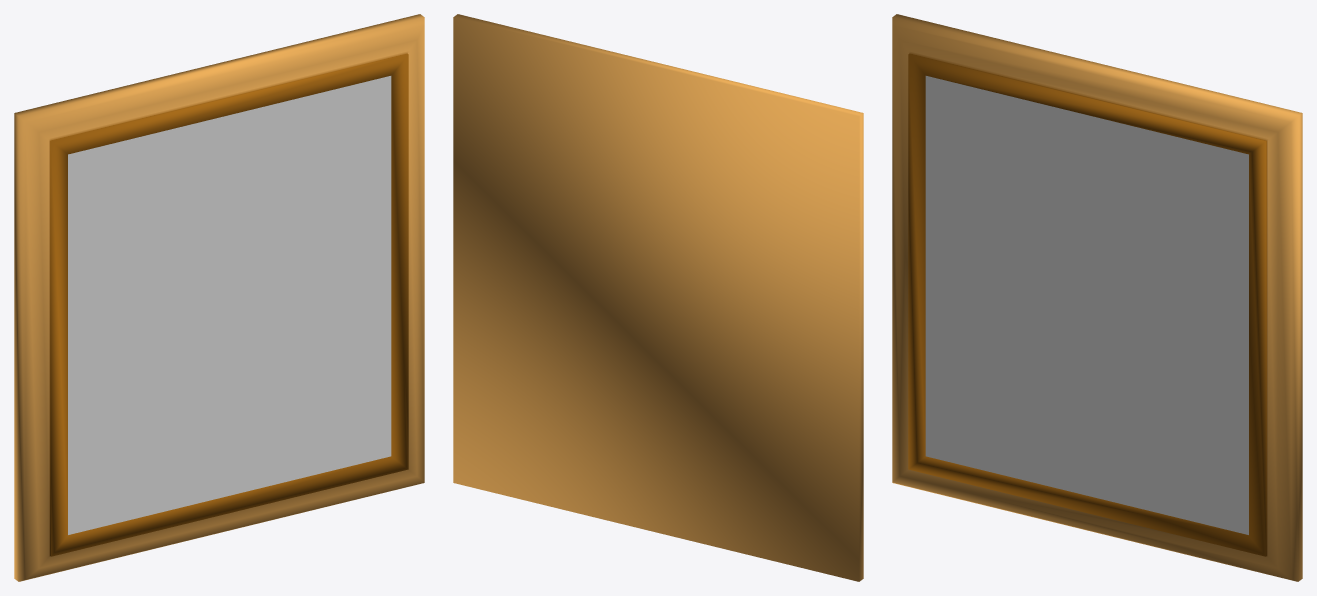
The model's file is Painting05.fbx.
3 views of the same model, side by side, from view 1: azimuth 30°, elevation 25°; view 2: azimuth 150°, elevation 25°; view 3: azimuth 330°, elevation 25° (orthographic).
Parts seen in each view (by area): view 1: Painting05_Glass, Painting05; view 2: Painting05; view 3: Painting05_Glass, Painting05.
Part boxes in pixels (x1,y1,x2,y2): Painting05_Glass: (68,76,391,534); Painting05: (14,14,424,581); Painting05: (453,14,863,581); Painting05_Glass: (925,76,1248,534); Painting05: (892,14,1302,581).
Bounding box in the file's own units: 1 × 1.1 × 0.0541.
